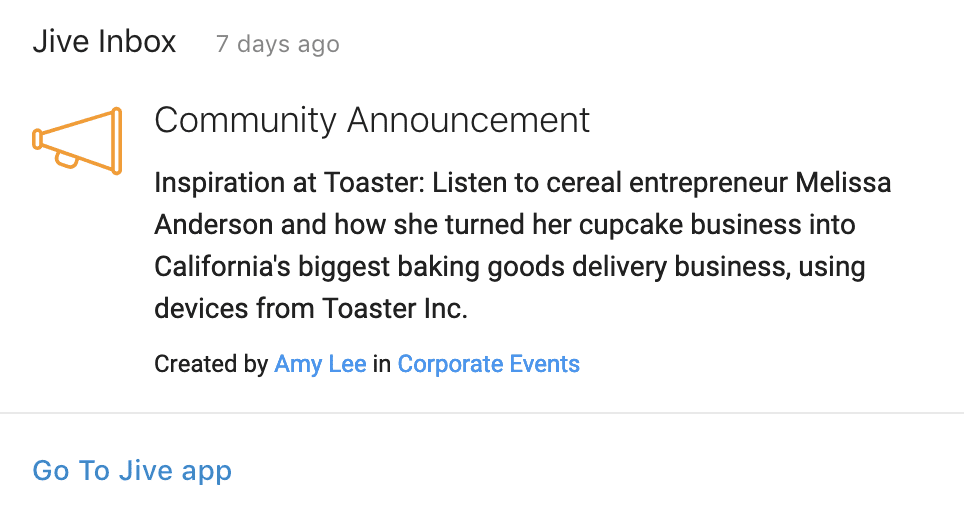image: (22, 98, 136, 187)
textbox: (147, 160, 898, 323), (150, 94, 593, 144), (148, 344, 590, 386), (27, 453, 238, 492), (28, 19, 185, 64), (201, 18, 348, 64)
